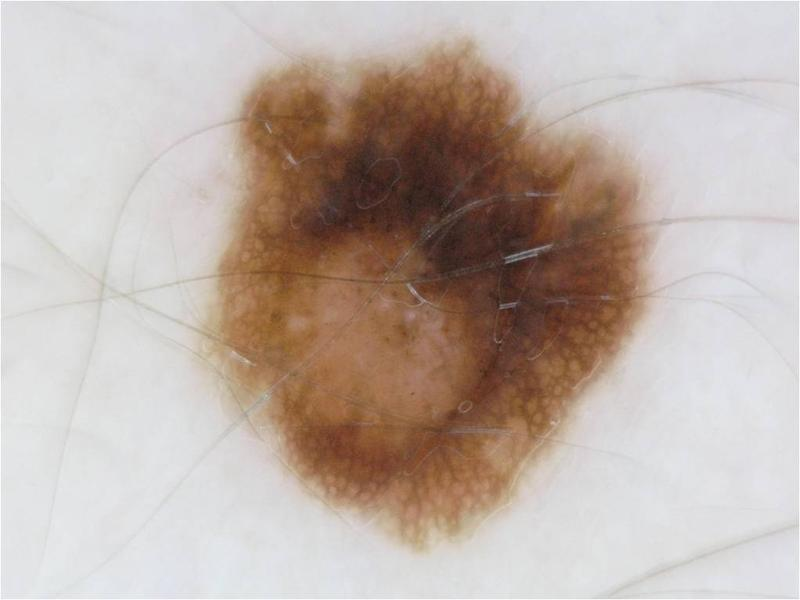Bengin: (252, 59, 581, 504)
